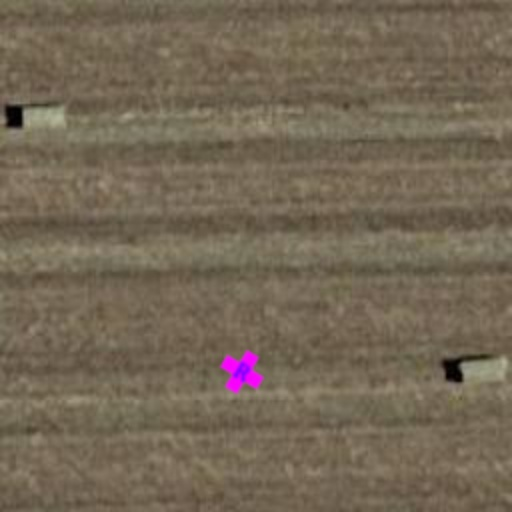cross: (212, 342, 272, 402)
